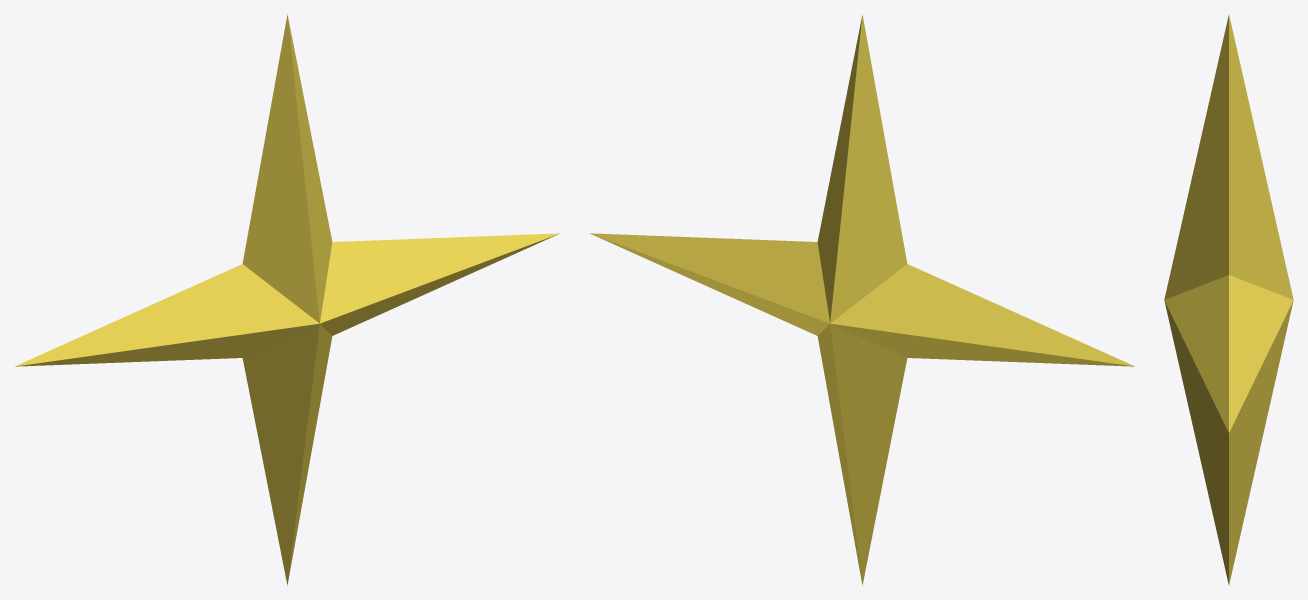
Rendered from star.fbx.
3 views of the same model, side by side, from view 1: azimuth 30°, elevation 25°; view 2: azimuth 150°, elevation 25°; view 3: azimuth 270°, elevation 25° (orthographic).
Parts seen in each view (by area): view 1: star; view 2: star; view 3: star.
Part boxes in pixels (bbox=[...]): star: bbox=[15, 14, 559, 585]; star: bbox=[590, 14, 1134, 585]; star: bbox=[1164, 15, 1293, 584].
Size of the model in its own units: 1.88 by 1.88 by 0.3854.
